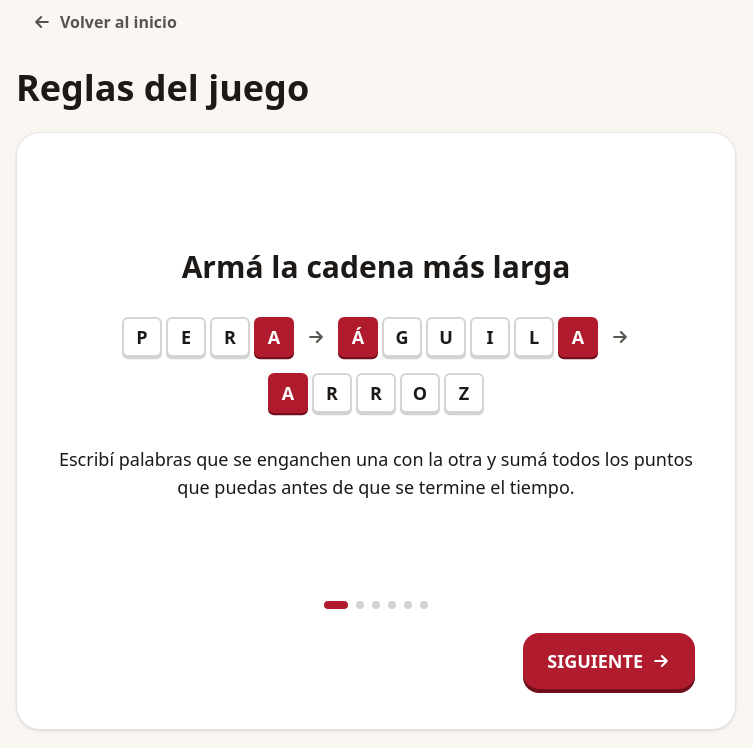
Test: App › goes from the rules to the name screen
Earlier steps of the test are not shown.
Click the button "Siguiente" at point(609, 661), box [523, 633, 695, 689]
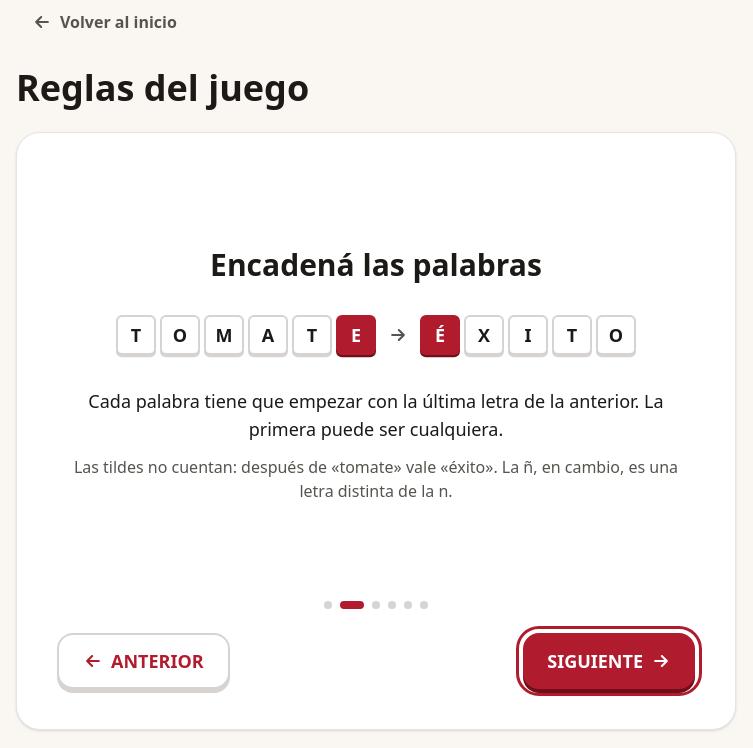
Click the button "Siguiente" at point(609, 661), box [523, 633, 695, 689]
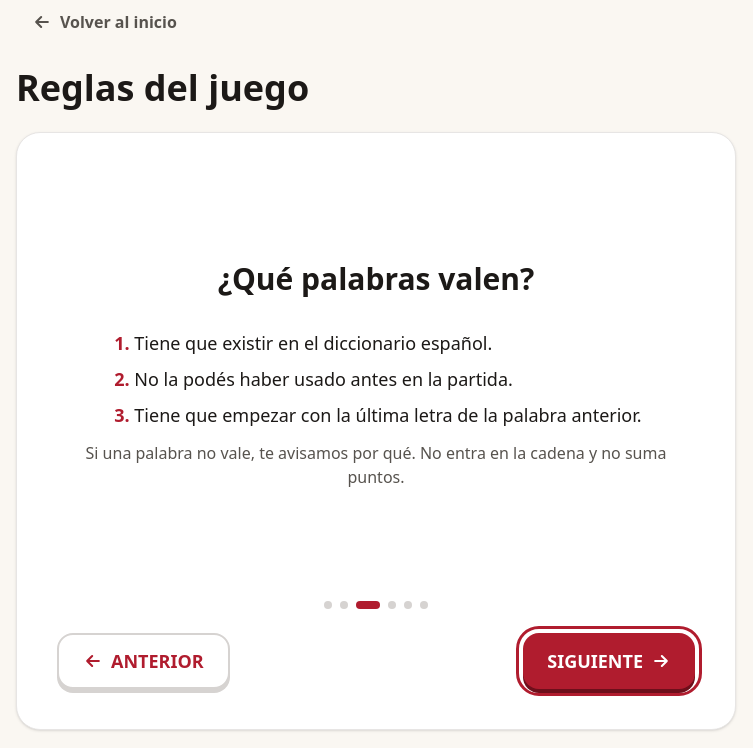
Click the button "Siguiente" at point(609, 661), box [523, 633, 695, 689]
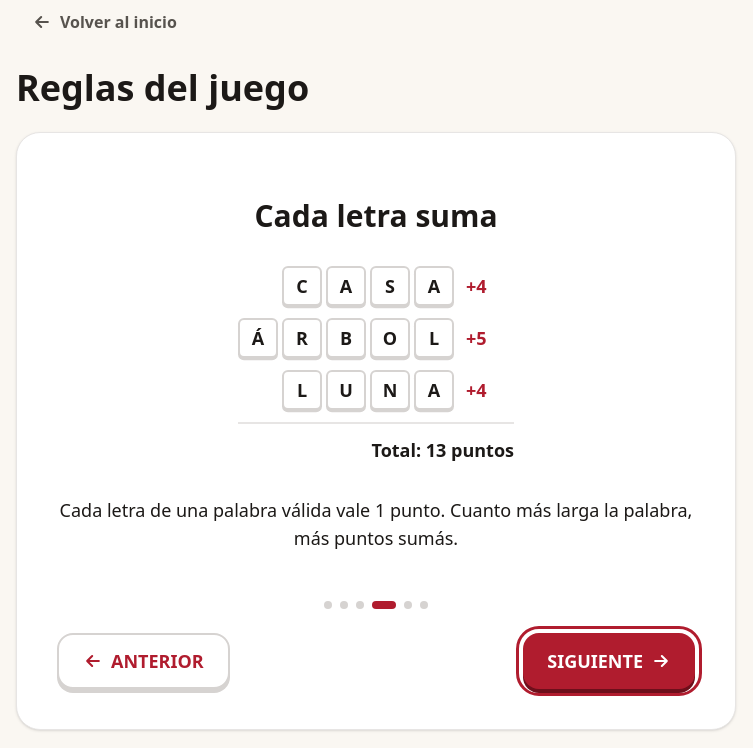
Click the button "Siguiente" at point(609, 661), box [523, 633, 695, 689]
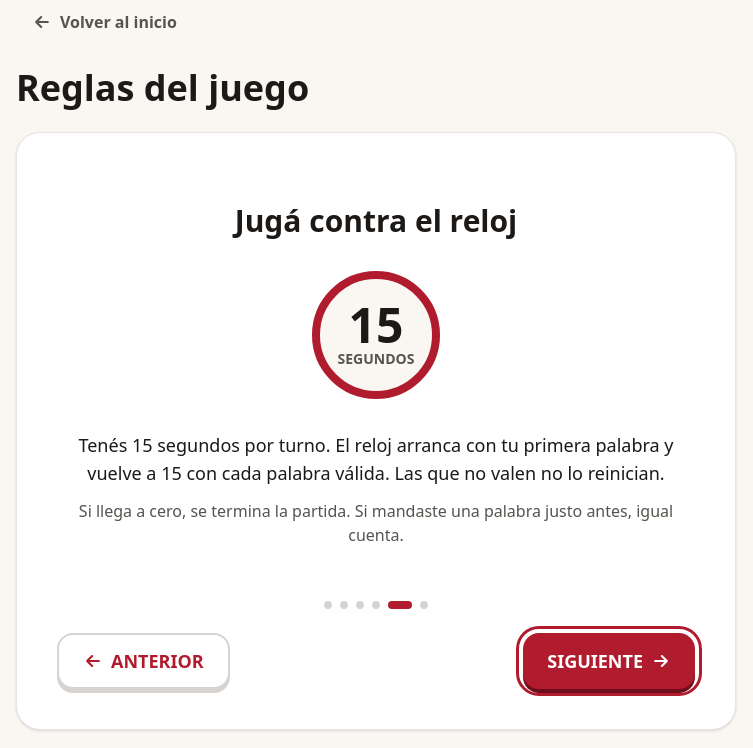
Click the button "Siguiente" at point(609, 661), box [523, 633, 695, 689]
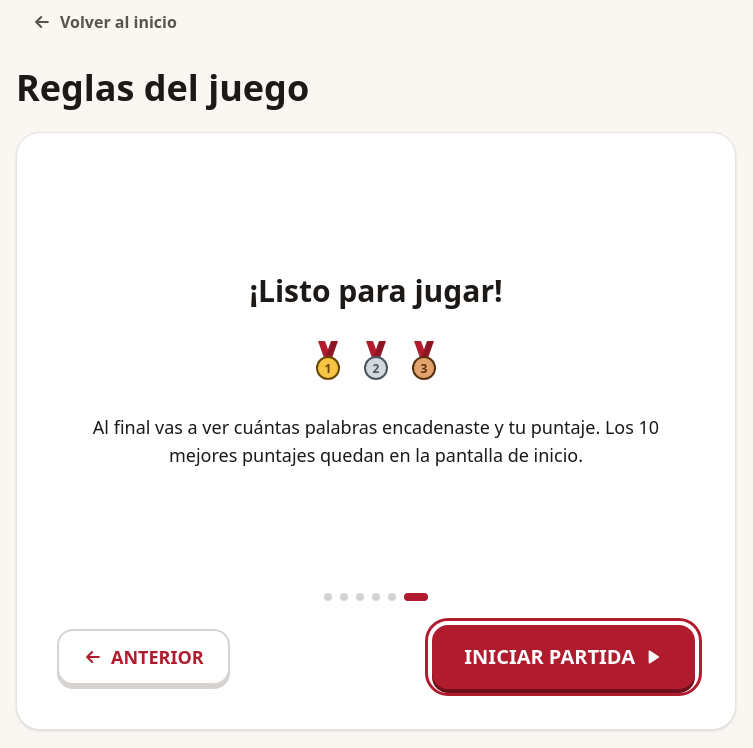
Click the button "Iniciar partida" at point(564, 657), box [432, 625, 695, 689]
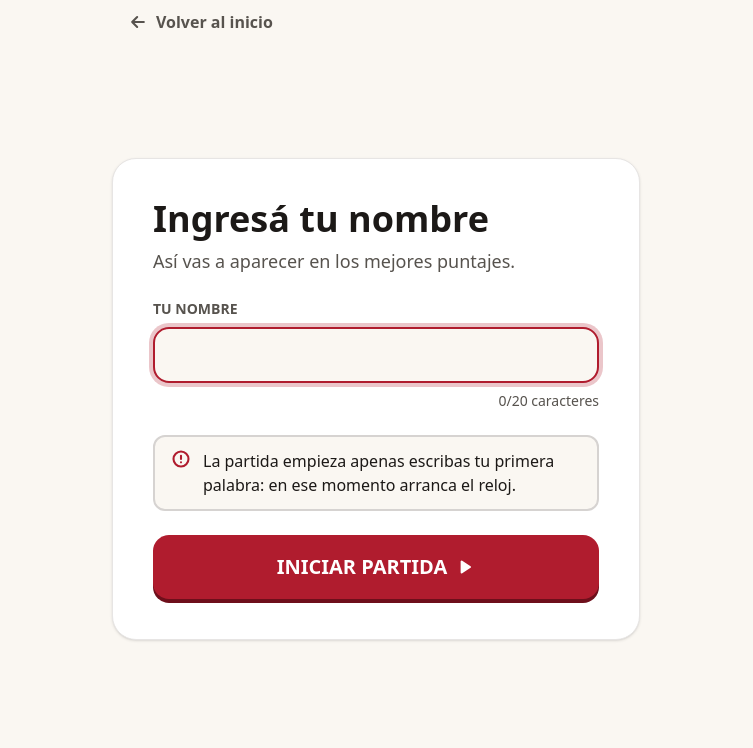
Now the heading "Ingresá tu nombre" is shown, box [153, 194, 489, 243]
